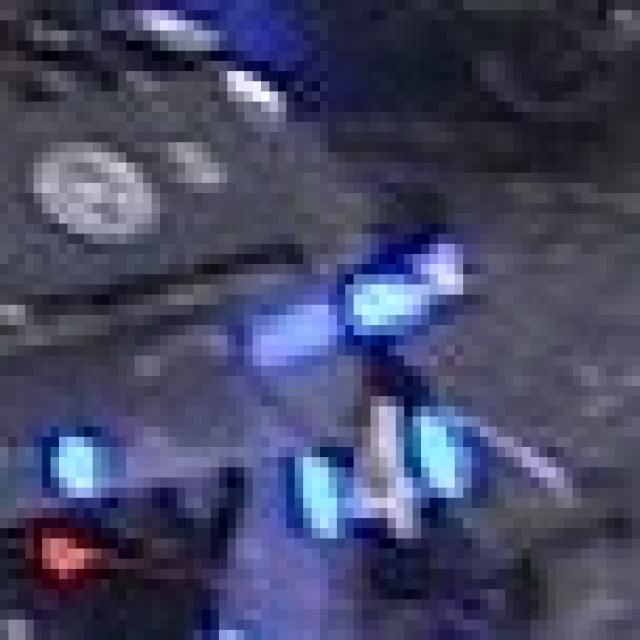B4: (286, 366, 463, 548)
